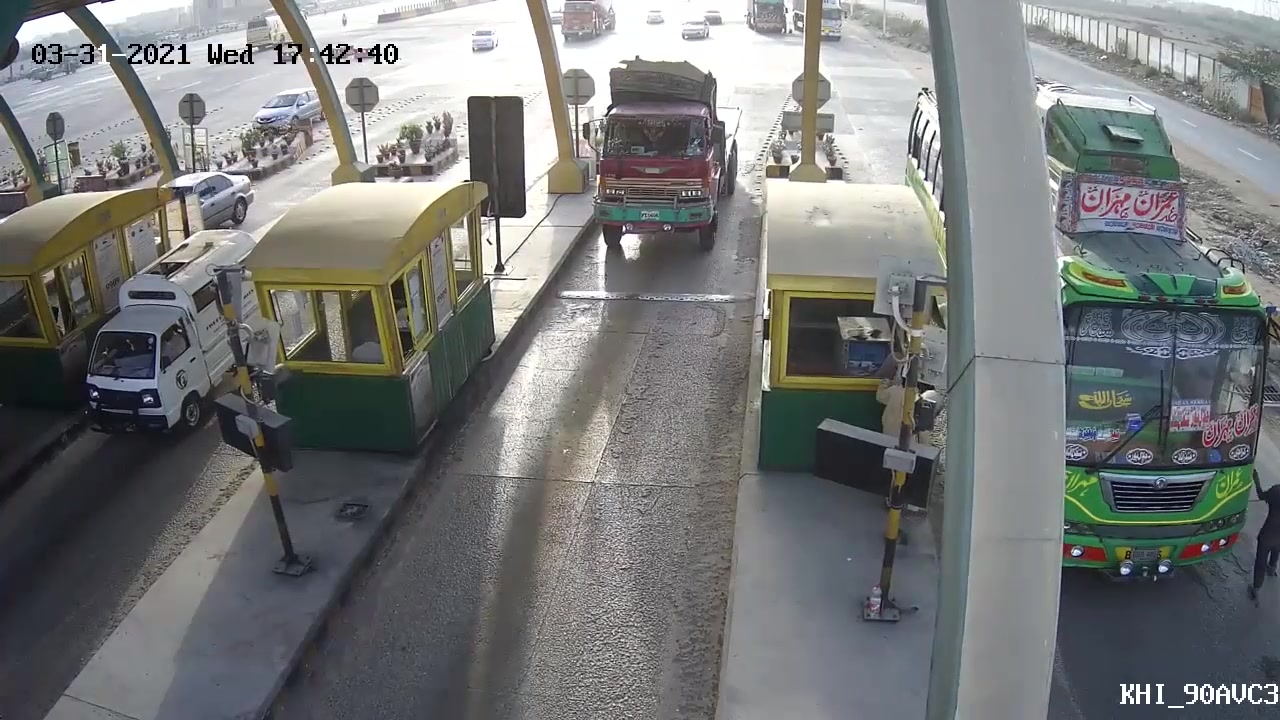F5: (579, 57, 743, 265)
